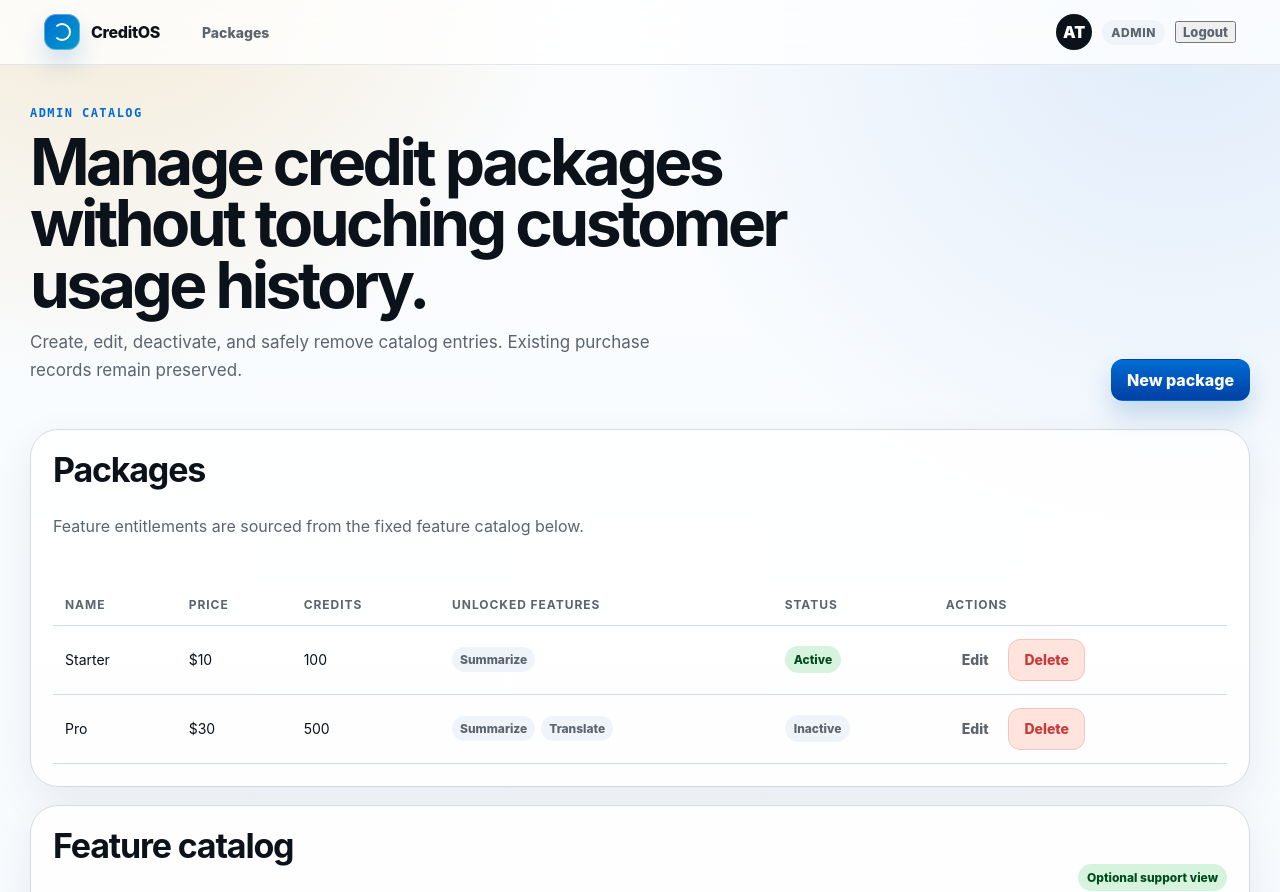
Test: Admin packages page › validates required fields in the create modal
Expected: the text "Starter" is shown, [53, 625, 177, 694]
// Open the create modal
Click the button "New package": x=1180, y=380 [1111, 359, 1250, 401]
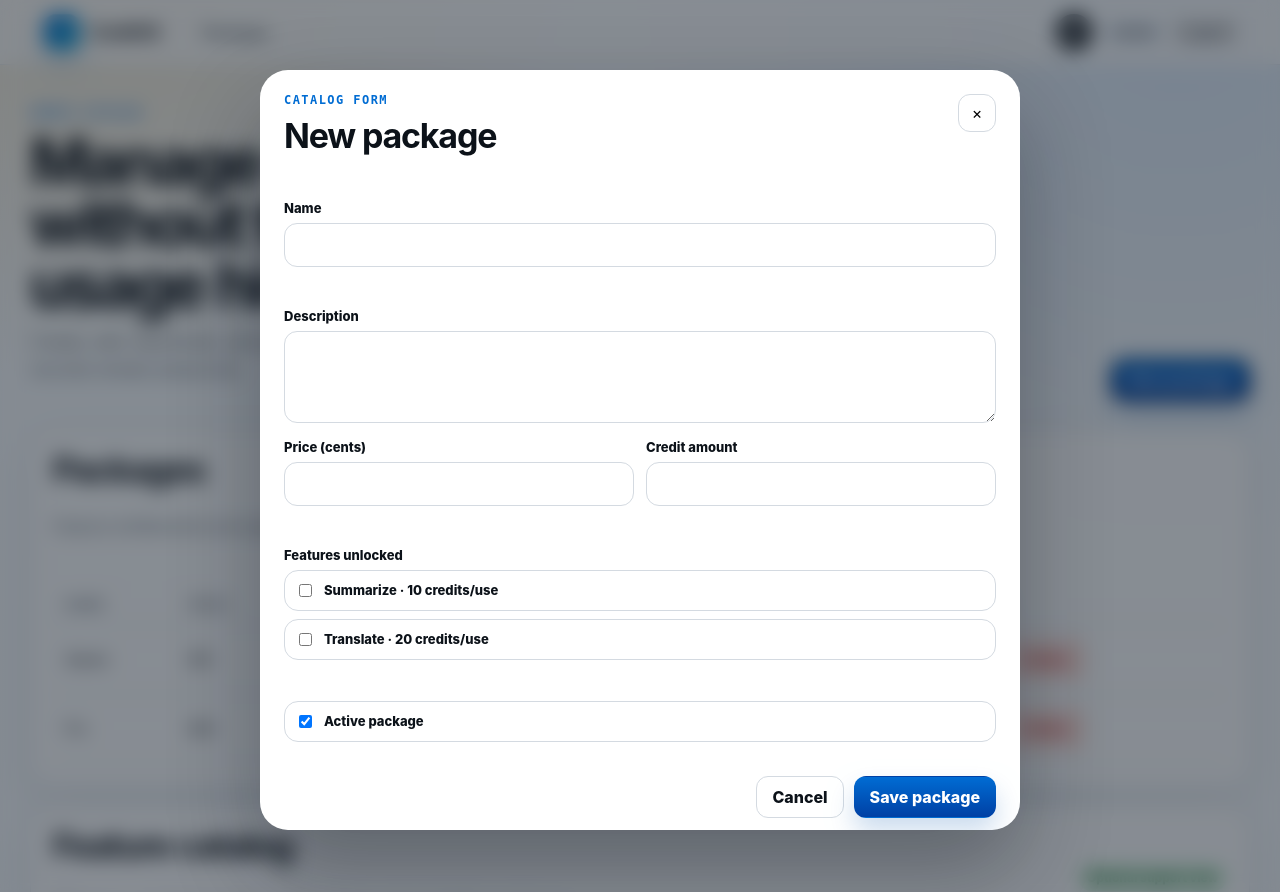
Expected: the heading "New package" is shown, [284, 118, 496, 154]
// Submit empty form
Click the button "Save package": x=925, y=797 [854, 776, 996, 818]
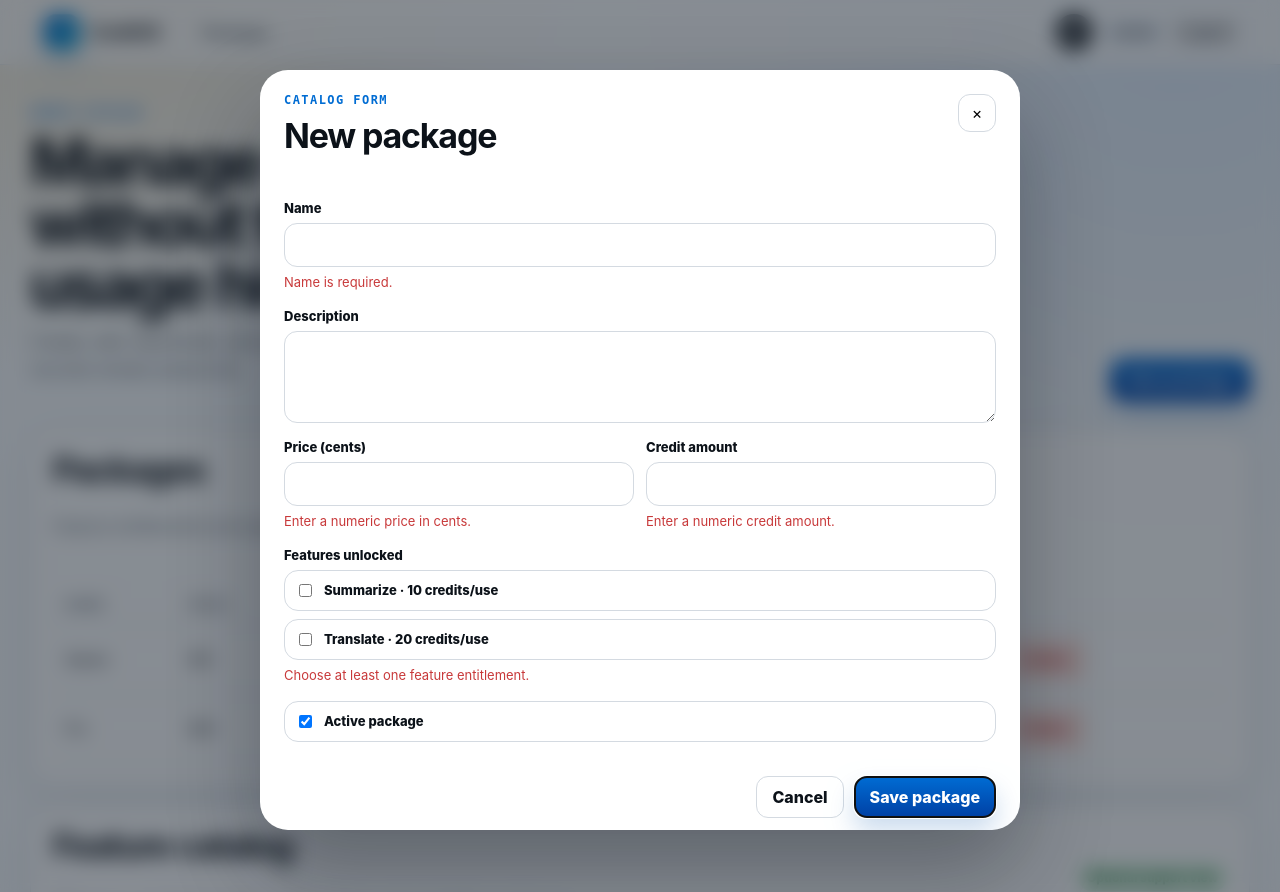
Expected: the text "Name is required." is shown, [284, 274, 392, 290]
Expected: the text "Enter a numeric price in cents." is shown, [284, 513, 471, 529]
Expected: the text "Enter a numeric credit amount." is shown, [646, 513, 835, 529]
